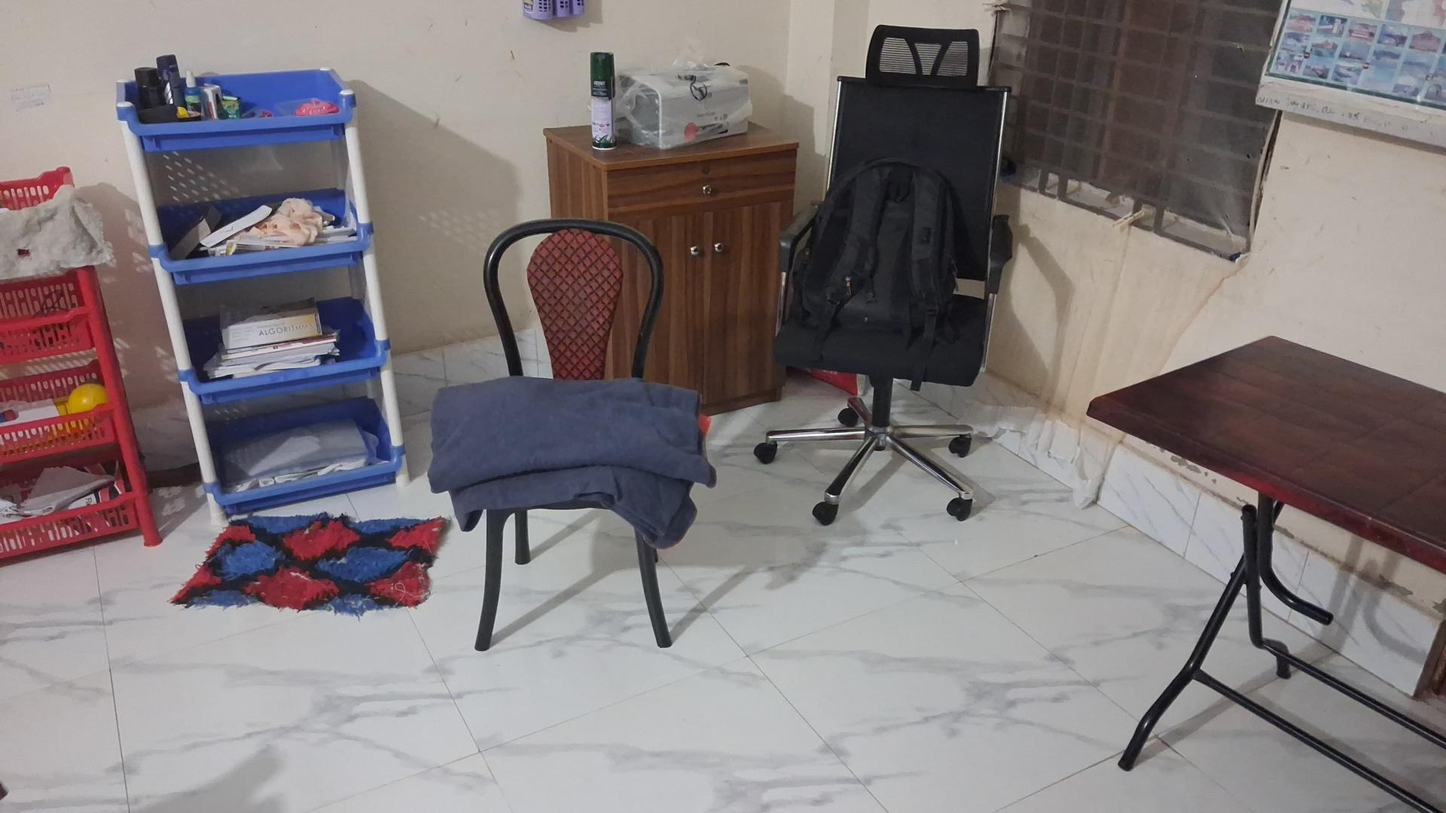Blanket: (430, 385, 718, 516)
Book: (210, 305, 338, 346)
Bottle: (582, 46, 622, 156)
Chair: (753, 27, 1012, 527), (439, 219, 715, 652)
Floor Mat: (172, 516, 439, 620)
Rack: (108, 67, 418, 490), (0, 166, 164, 549)
Table: (1087, 303, 1446, 803)
Window: (1000, 0, 1273, 262)
